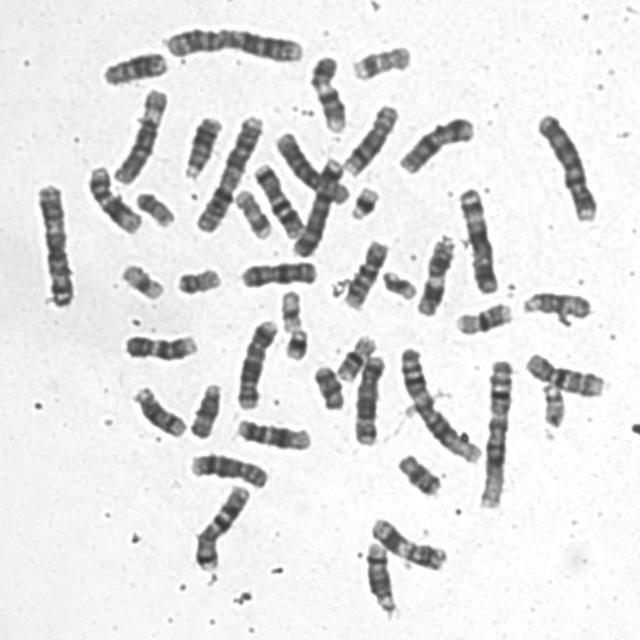A1: (394, 340, 484, 466), (472, 352, 515, 512)
A2: (189, 108, 266, 234), (159, 20, 307, 64)
A3: (29, 176, 77, 310), (453, 181, 502, 296)
B4: (530, 106, 600, 224), (287, 151, 345, 258)
B5: (230, 313, 281, 411), (347, 349, 389, 447)
C10: (520, 346, 608, 400), (338, 234, 391, 312)
C11: (364, 512, 449, 573), (411, 230, 457, 318)
C12: (81, 160, 144, 236), (230, 412, 314, 453)
C6: (270, 124, 353, 206), (107, 82, 171, 185)
C7: (187, 478, 253, 573), (248, 156, 307, 240)
C8: (338, 99, 401, 178), (183, 447, 270, 490)
C9: (304, 49, 349, 134), (119, 327, 200, 363)
D13: (177, 110, 225, 180), (96, 44, 170, 88)
D14: (126, 379, 189, 438), (359, 536, 400, 618)
D15: (516, 284, 594, 320), (183, 378, 224, 440)
E16: (449, 296, 514, 337), (330, 329, 379, 383)
E17: (346, 38, 414, 83), (229, 183, 274, 240)
E18: (391, 448, 444, 498), (308, 359, 347, 411)
F19: (115, 257, 167, 303), (275, 284, 305, 333)
F20: (130, 186, 177, 229), (170, 261, 224, 297)
G21: (346, 183, 383, 223), (279, 323, 311, 362)
G22: (535, 378, 568, 429), (379, 265, 419, 303)
X: (392, 110, 477, 176), (234, 254, 320, 290)
